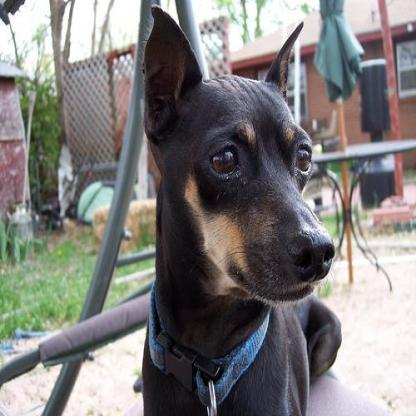miniature_pinscher: (136, 0, 342, 413)
